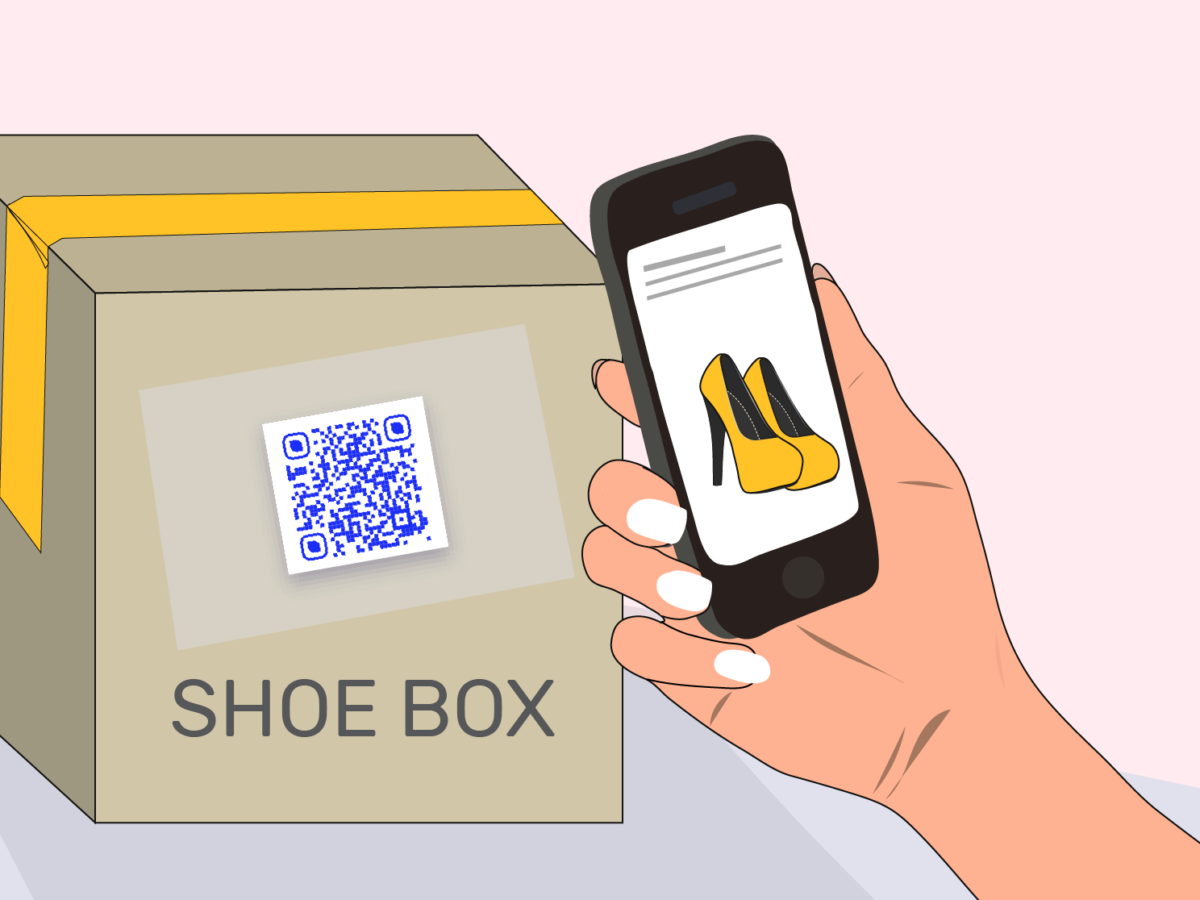qr_code: (248, 404, 442, 570)
